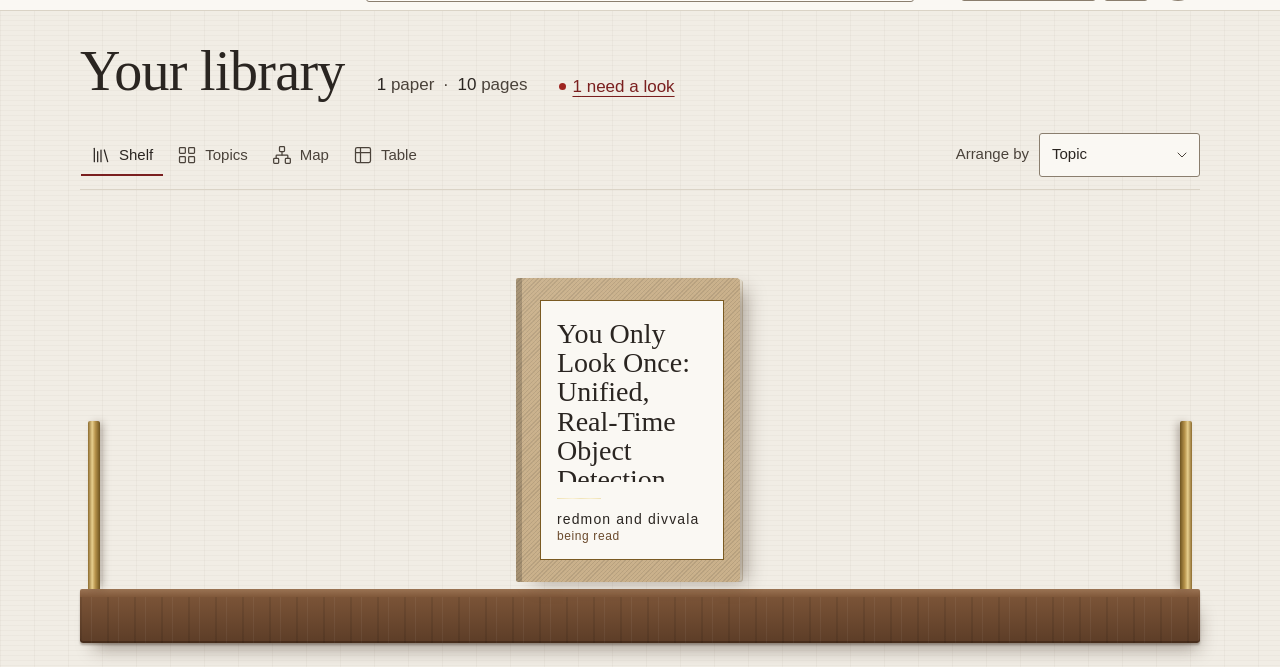
Test: library rows from the API (S1 shape) › reading shows the step in words, from job.done and job.step
Click the button with aria-label "You Only Look Once: Unified, Real-Time Object Detection, Red" at (628, 430), box [516, 278, 740, 582]
(page scrolled)
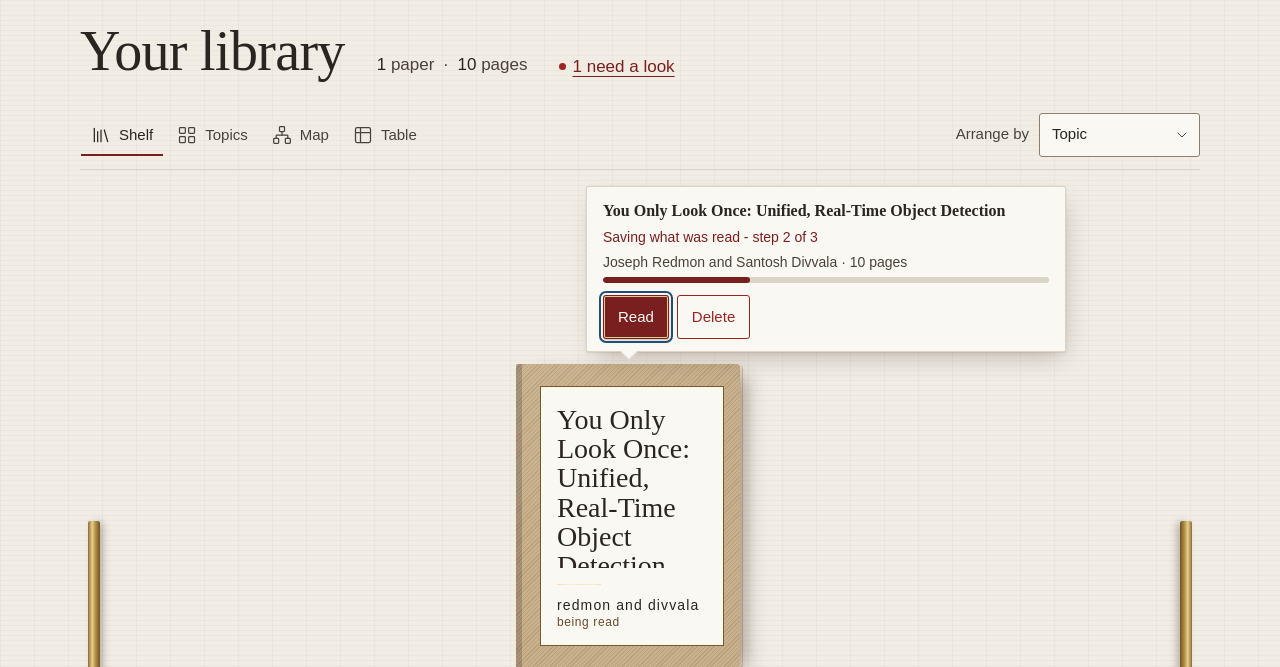
expect the text "Saving what was read - step 2 of 3" is shown: met, box [603, 226, 818, 248]
expect the progress indicator is shown: met, box [603, 276, 1049, 282]
